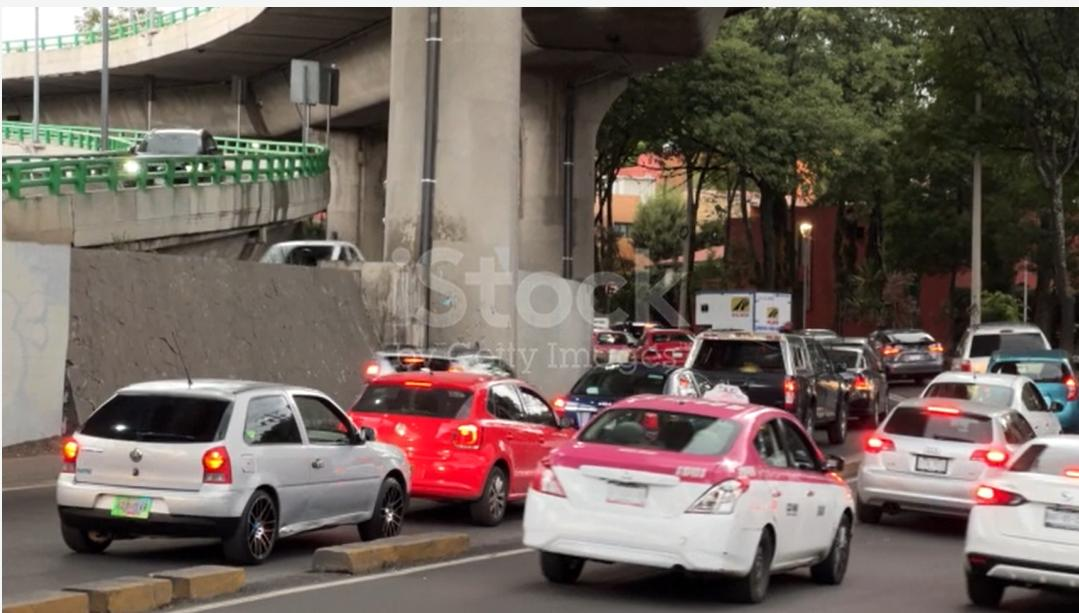car: (19, 355, 431, 562), (524, 365, 873, 593), (365, 361, 568, 527), (851, 391, 1017, 540), (953, 423, 1079, 613)
